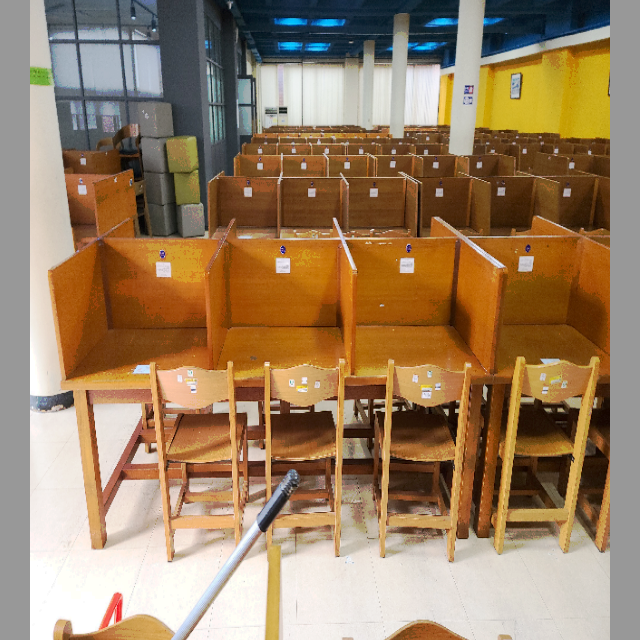empty: (216, 234, 354, 483), (56, 239, 210, 461), (358, 229, 497, 467)
